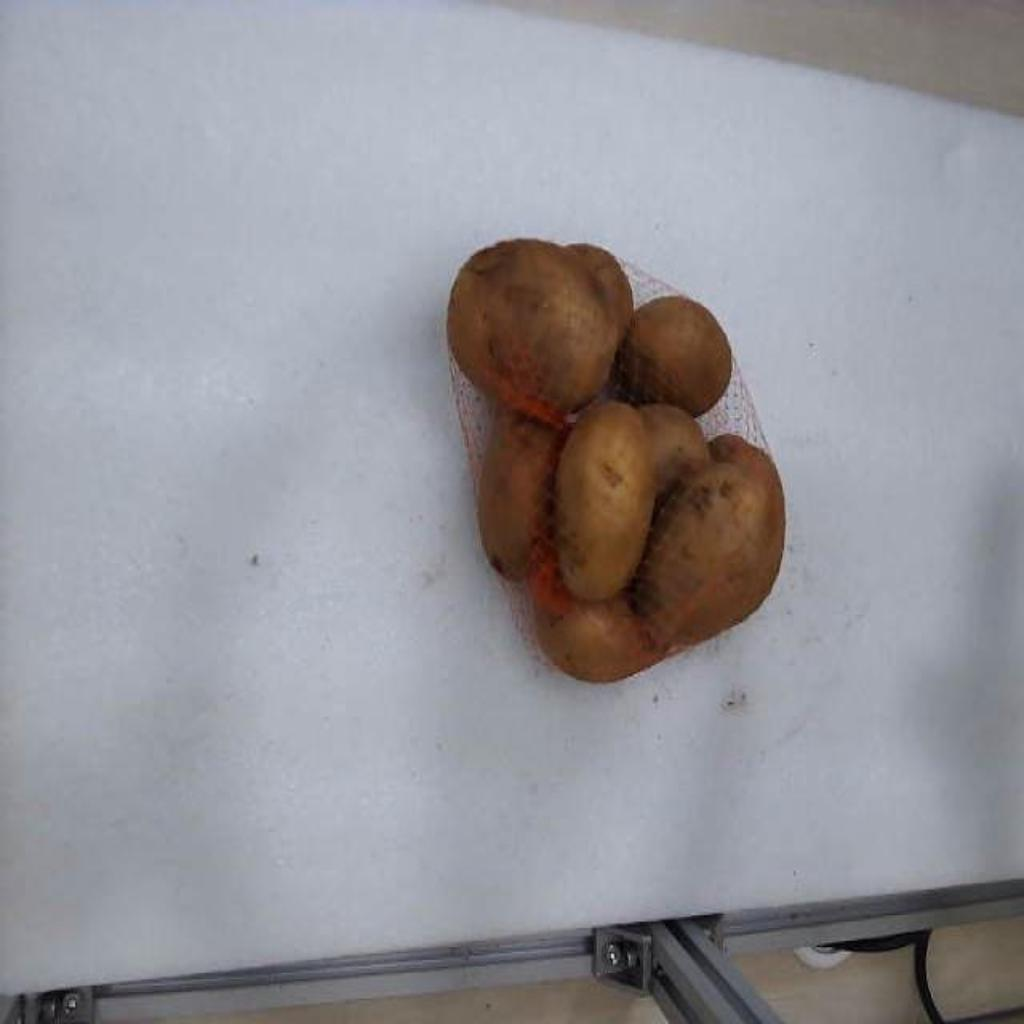potato: (448, 240, 632, 423), (632, 437, 784, 648), (554, 403, 654, 600), (478, 408, 564, 579), (618, 296, 732, 415), (536, 597, 664, 681), (638, 403, 710, 497)
